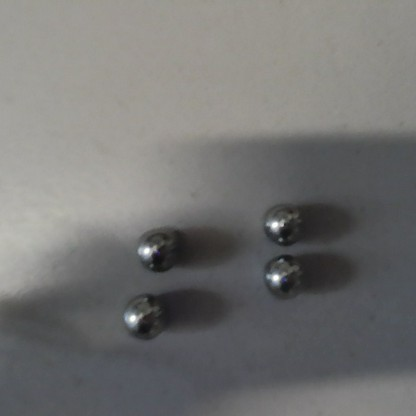ironball: (121, 291, 165, 339), (136, 226, 178, 272), (261, 255, 302, 296), (262, 204, 303, 245)
